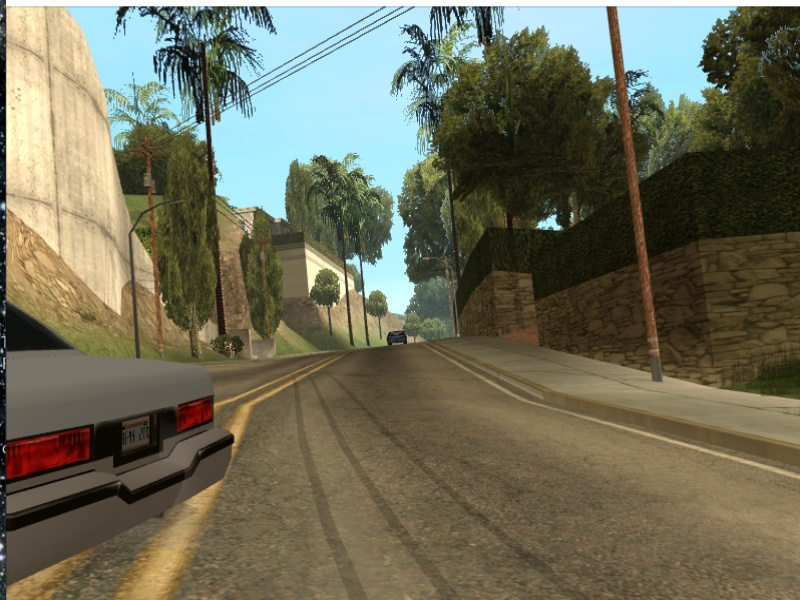pole: (602, 10, 680, 384), (122, 221, 147, 359), (148, 217, 171, 357)
vehicle: (6, 298, 243, 590), (386, 328, 407, 347)
